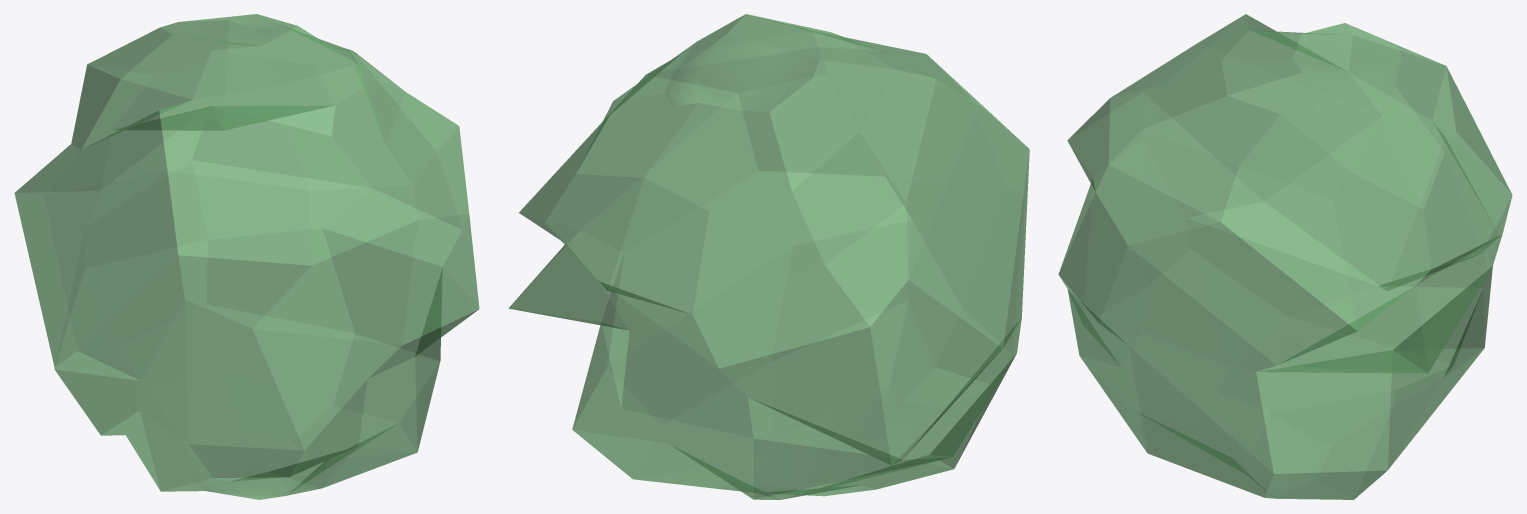
Rendered from GooBall.fbx.
The picture shows the model from 3 angles, left to right: view 1: azimuth 30°, elevation 25°; view 2: azimuth 150°, elevation 25°; view 3: azimuth 270°, elevation 25°; orthographic projection. The views are drawn at different scales.
Visible parts, largest first — view 1: Goo; view 2: Goo; view 3: Goo.
Part boxes in pixels (<box>): Goo: <box>14,14,479,499</box>; Goo: <box>508,14,1029,499</box>; Goo: <box>1058,14,1512,499</box>.
Size of the model in its own units: 0.4887 by 0.5038 by 0.4899.
